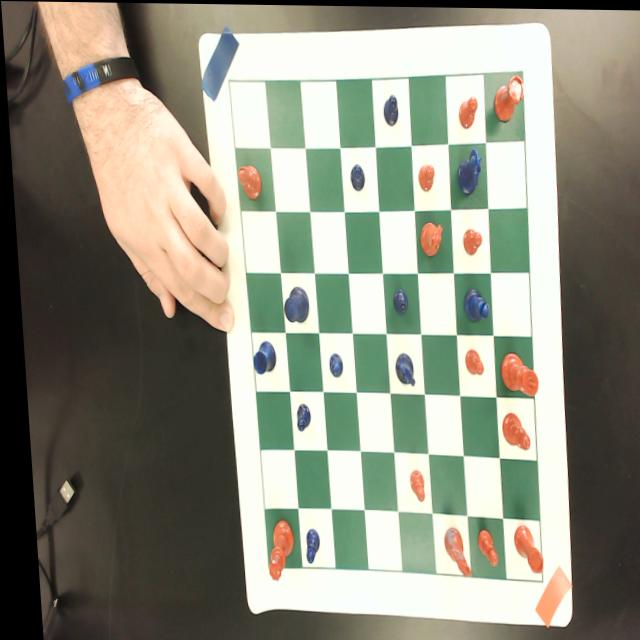B: (458, 285, 485, 321)
K: (278, 284, 306, 322)
N: (449, 145, 482, 203), (387, 347, 411, 386)
P: (296, 527, 313, 563), (380, 93, 398, 125), (387, 286, 404, 314), (346, 161, 362, 189), (289, 402, 304, 431), (322, 351, 338, 377)
R: (246, 337, 272, 372)
b: (495, 411, 524, 449), (233, 162, 259, 197)
k: (493, 350, 533, 394)
n: (434, 524, 465, 579), (415, 219, 441, 255)
p: (468, 525, 491, 565), (455, 94, 477, 128), (458, 225, 479, 255), (401, 467, 419, 501), (414, 161, 433, 191), (458, 346, 478, 374)
q: (257, 517, 288, 581)
r: (489, 70, 526, 121), (504, 519, 536, 572)
